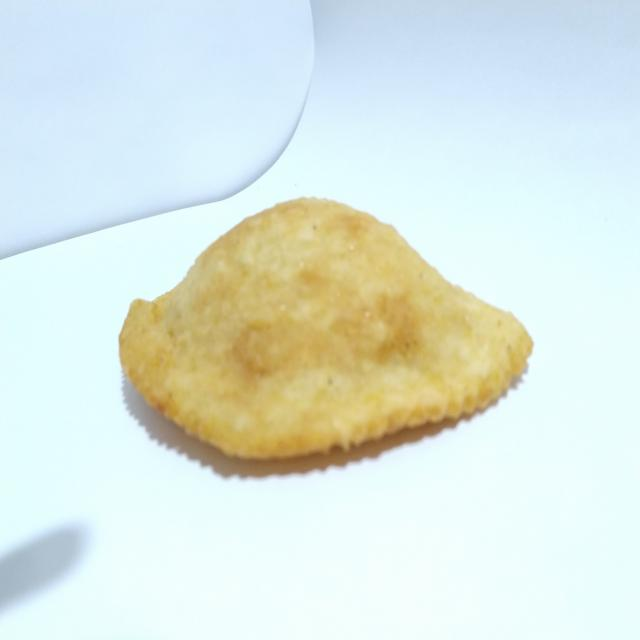Pastel_Mandio: (104, 190, 541, 482)
